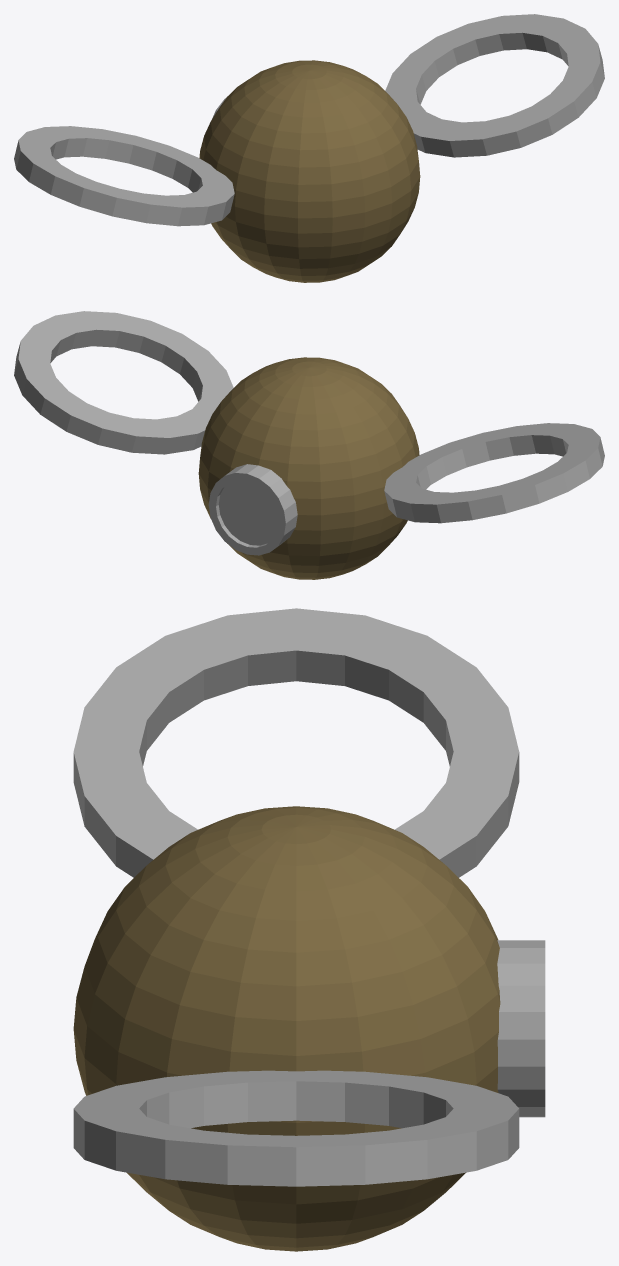
The model's file is CH_Ship_Prototype.fbx.
3 renders of one model, top to bottom at view 1: azimuth 30°, elevation 25°; view 2: azimuth 150°, elevation 25°; view 3: azimuth 270°, elevation 25°, orthographic. The views are drawn at different scales.
Parts seen in each view (by area): view 1: CH_Ship_Prototype; view 2: CH_Ship_Prototype; view 3: CH_Ship_Prototype.
Part boxes in pixels (x1=…): CH_Ship_Prototype: x1=14, y1=14, x2=604, y2=282; CH_Ship_Prototype: x1=14, y1=311, x2=604, y2=579; CH_Ship_Prototype: x1=73, y1=608, x2=545, y2=1251.
Bounding box in the file's own units: 224 × 77.08 × 81.6.
